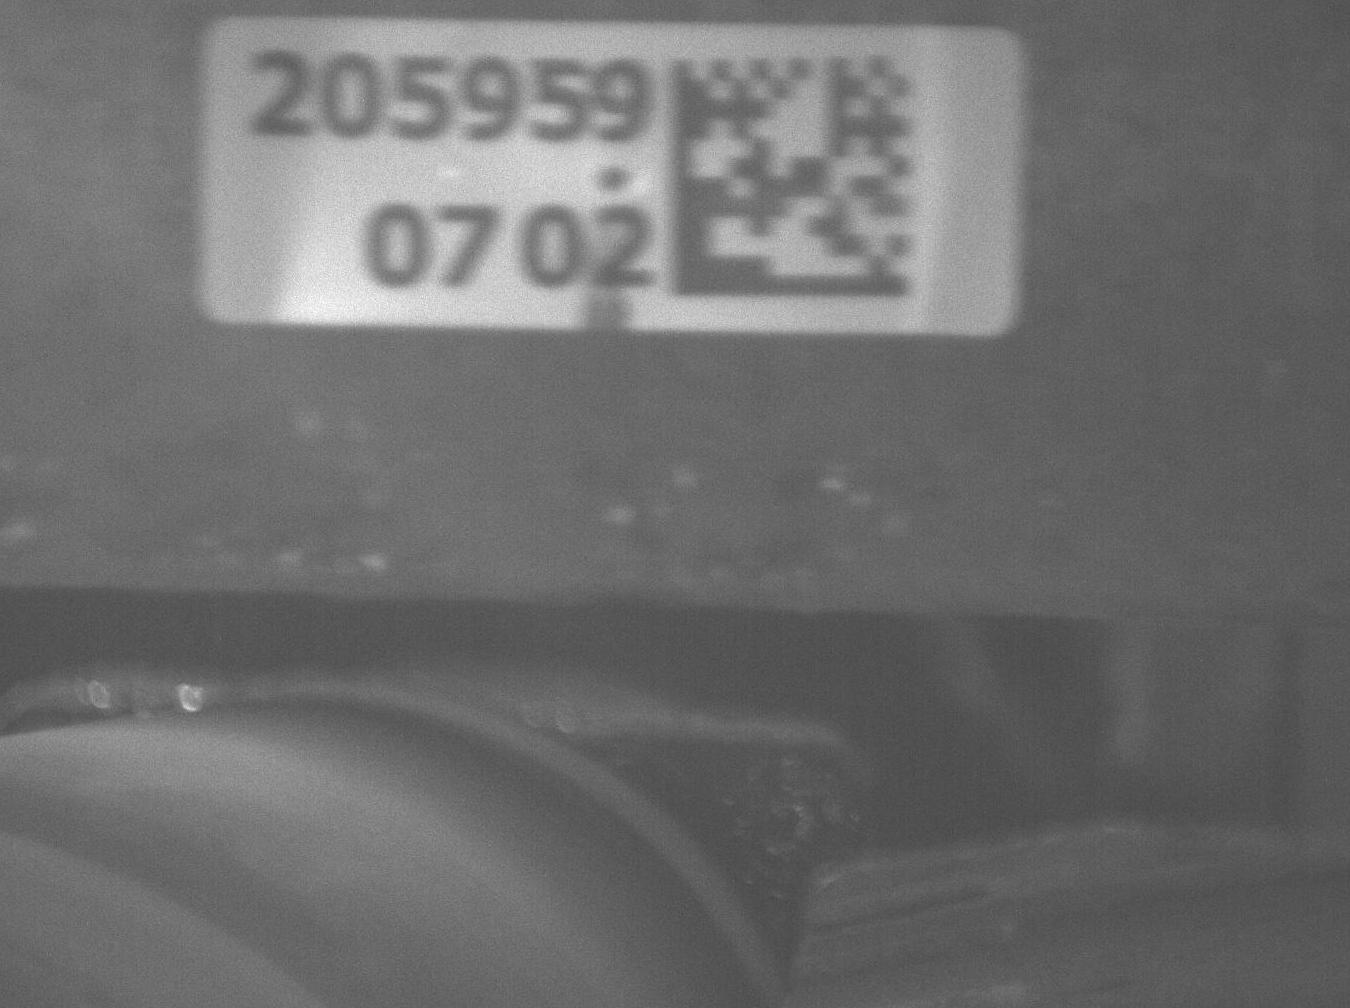data matrix: (656, 39, 938, 317)
